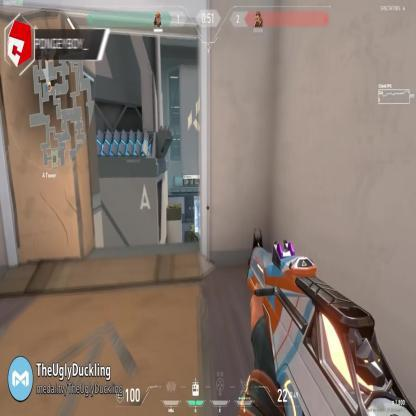enemy: (188, 219, 198, 242)
enemy_head: (190, 221, 193, 227)
